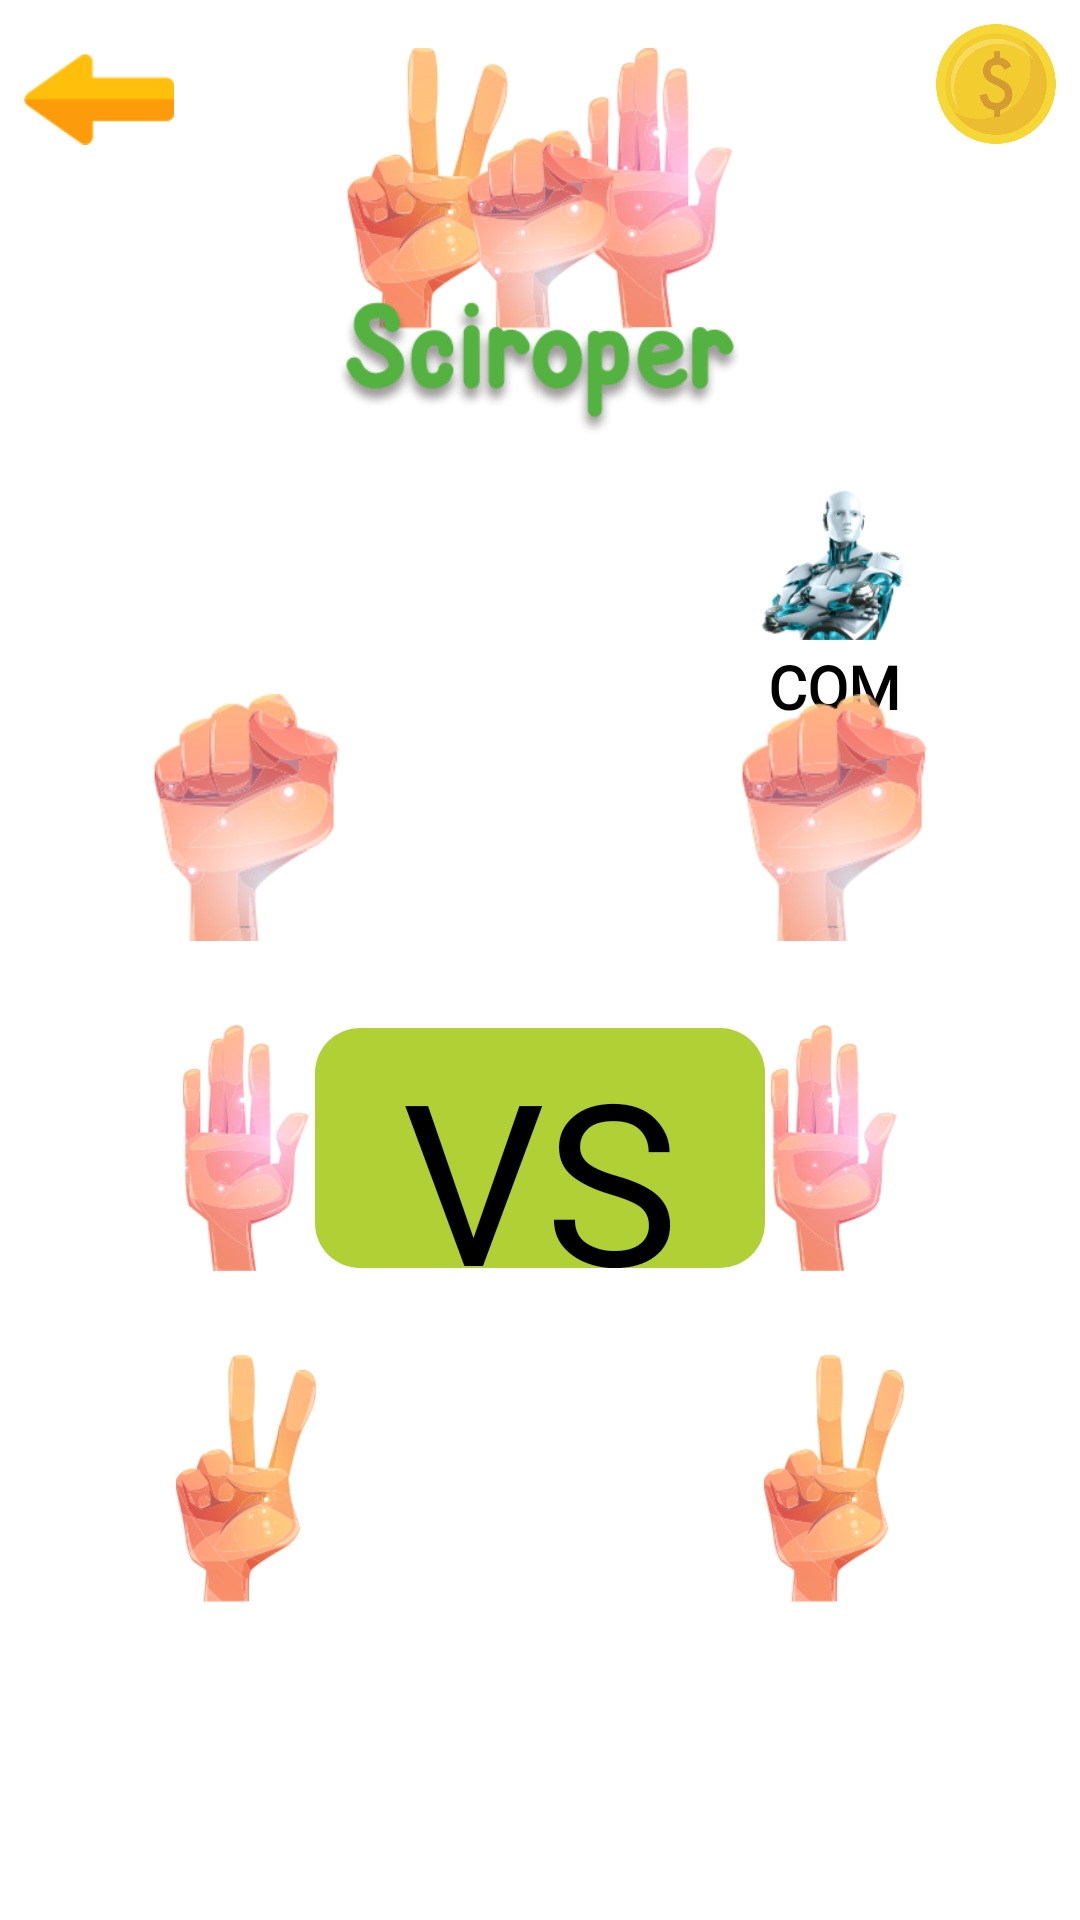

Locate icon controls on the screen. Image size 1080*1920, boxes as [left=x1, top=y1, right=x2, bottom=y2].
back: [left=24, top=53, right=174, bottom=145]
coin: [left=936, top=24, right=1056, bottom=144]
Scissors: [left=176, top=1355, right=316, bottom=1602], [left=764, top=1355, right=904, bottom=1602]
